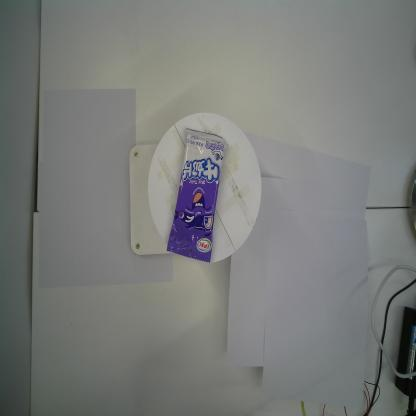Candy: (166, 127, 226, 264)
